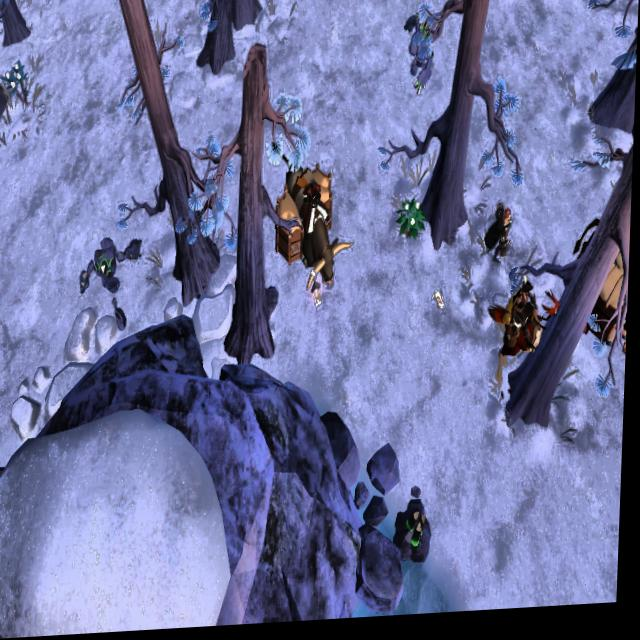fiber_t3: (398, 200, 430, 246)
fiber_t4: (2, 56, 34, 101)
ore_t3: (410, 509, 433, 554)
